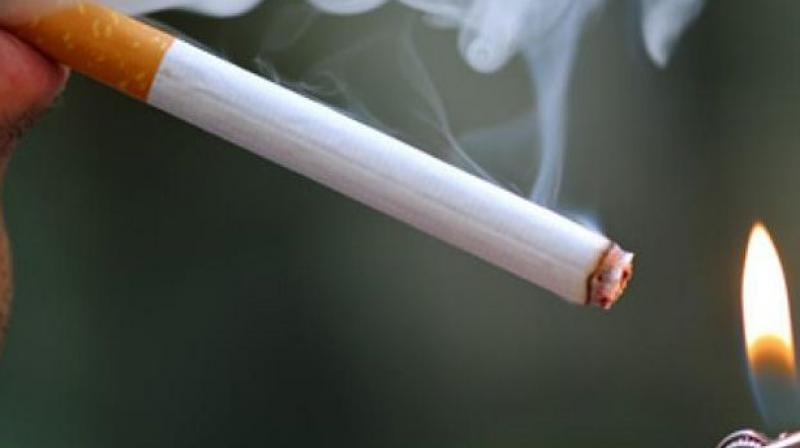cigarette: (7, 1, 645, 307)
